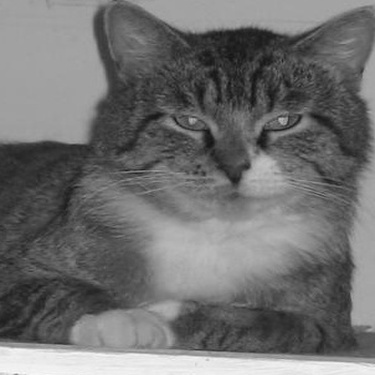cat: (7, 11, 346, 347)
